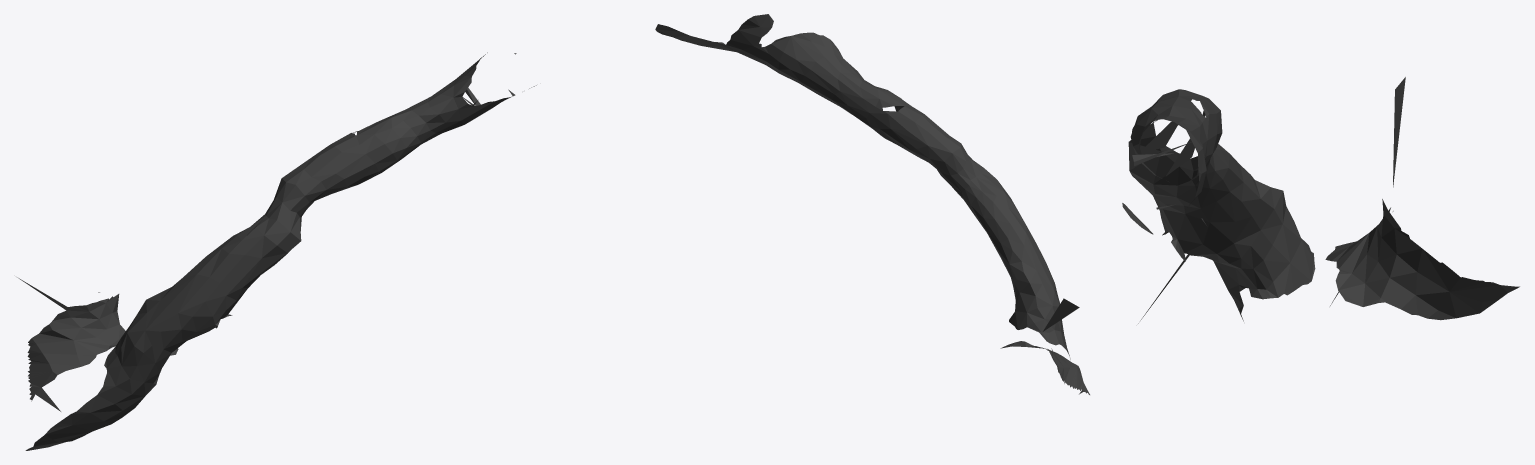
Rendered from A_thoracic_internal_A_thoracic_internal.glb.
3 views of the same model, side by side, from view 1: azimuth 30°, elevation 25°; view 2: azimuth 150°, elevation 25°; view 3: azimuth 270°, elevation 25° (orthographic). The views are drawn at different scales.
Visible parts, largest first — view 1: A_thoracic_internal_A_thoracic_internal; view 2: A_thoracic_internal_A_thoracic_internal; view 3: A_thoracic_internal_A_thoracic_internal.
Part boxes in pixels (x1,y1,x2,y2): A_thoracic_internal_A_thoracic_internal: (17, 52, 536, 450); A_thoracic_internal_A_thoracic_internal: (655, 14, 1089, 394); A_thoracic_internal_A_thoracic_internal: (1122, 77, 1519, 323).
Bounding box in the file's own units: 0.0322 × 0.0204 × 0.0118.
1 material, 1 textured.
